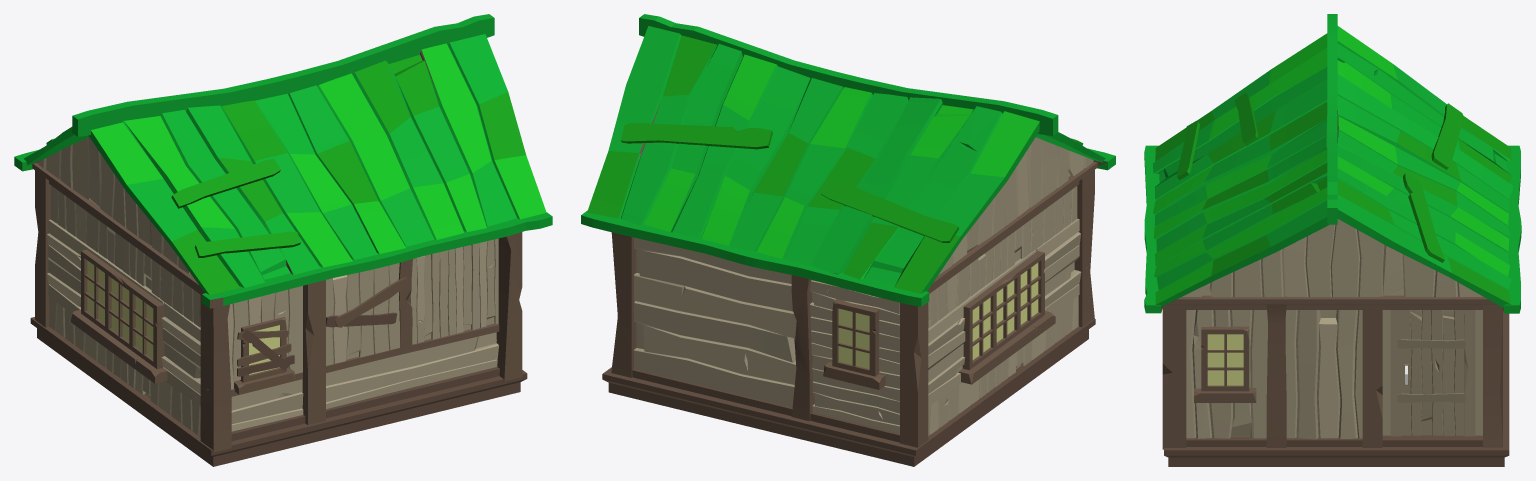
File: greenhouse.fbx
3 renders of one model, left to right at view 1: azimuth 30°, elevation 25°; view 2: azimuth 150°, elevation 25°; view 3: azimuth 270°, elevation 25°, orthographic. The views are drawn at different scales.
Parts seen in each view (by area): view 1: House_1_Roof.002, House.002; view 2: House_1_Roof.002, House.002; view 3: House_1_Roof.002, House.002.
Boxes of the visible parts, x1,y1,x2,y2 form: House_1_Roof.002: (14,14,552,308); House.002: (30,170,527,466); House_1_Roof.002: (581,14,1115,306); House.002: (602,170,1095,466); House_1_Roof.002: (1144,14,1521,313); House.002: (1162,304,1509,466).
Bounding box in the file's own units: 573 × 395 × 471.
